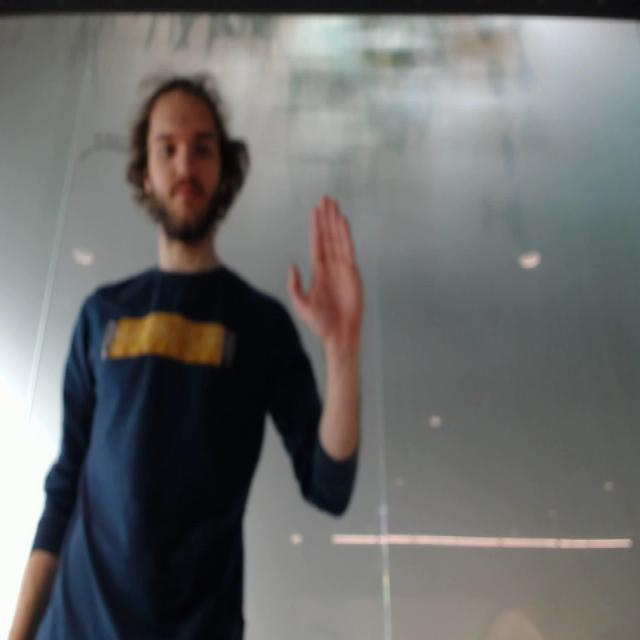backward: (283, 190, 378, 346)
